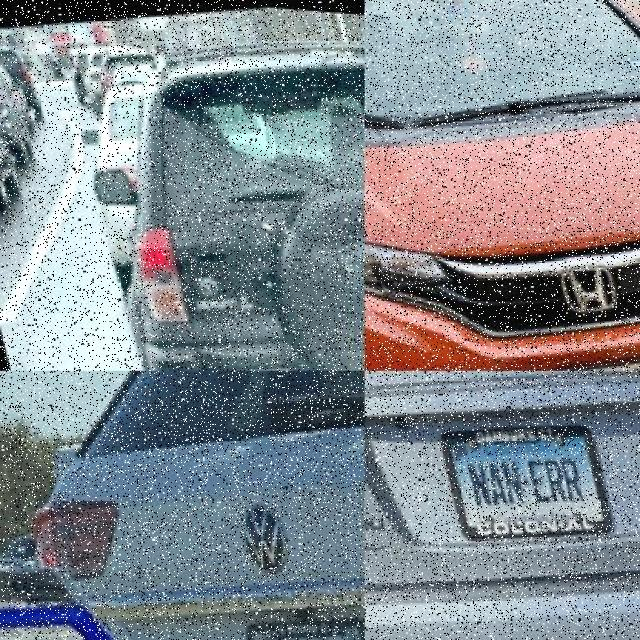licenseplate: (432, 416, 607, 534), (235, 611, 360, 640), (543, 346, 640, 371)
